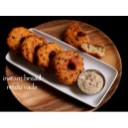vada: (55, 50, 85, 85), (36, 40, 62, 69), (23, 35, 48, 64), (8, 26, 34, 52)
